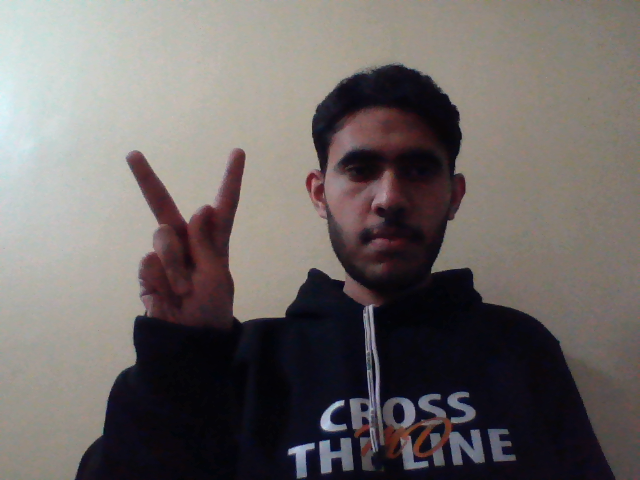K: (121, 139, 245, 352)
